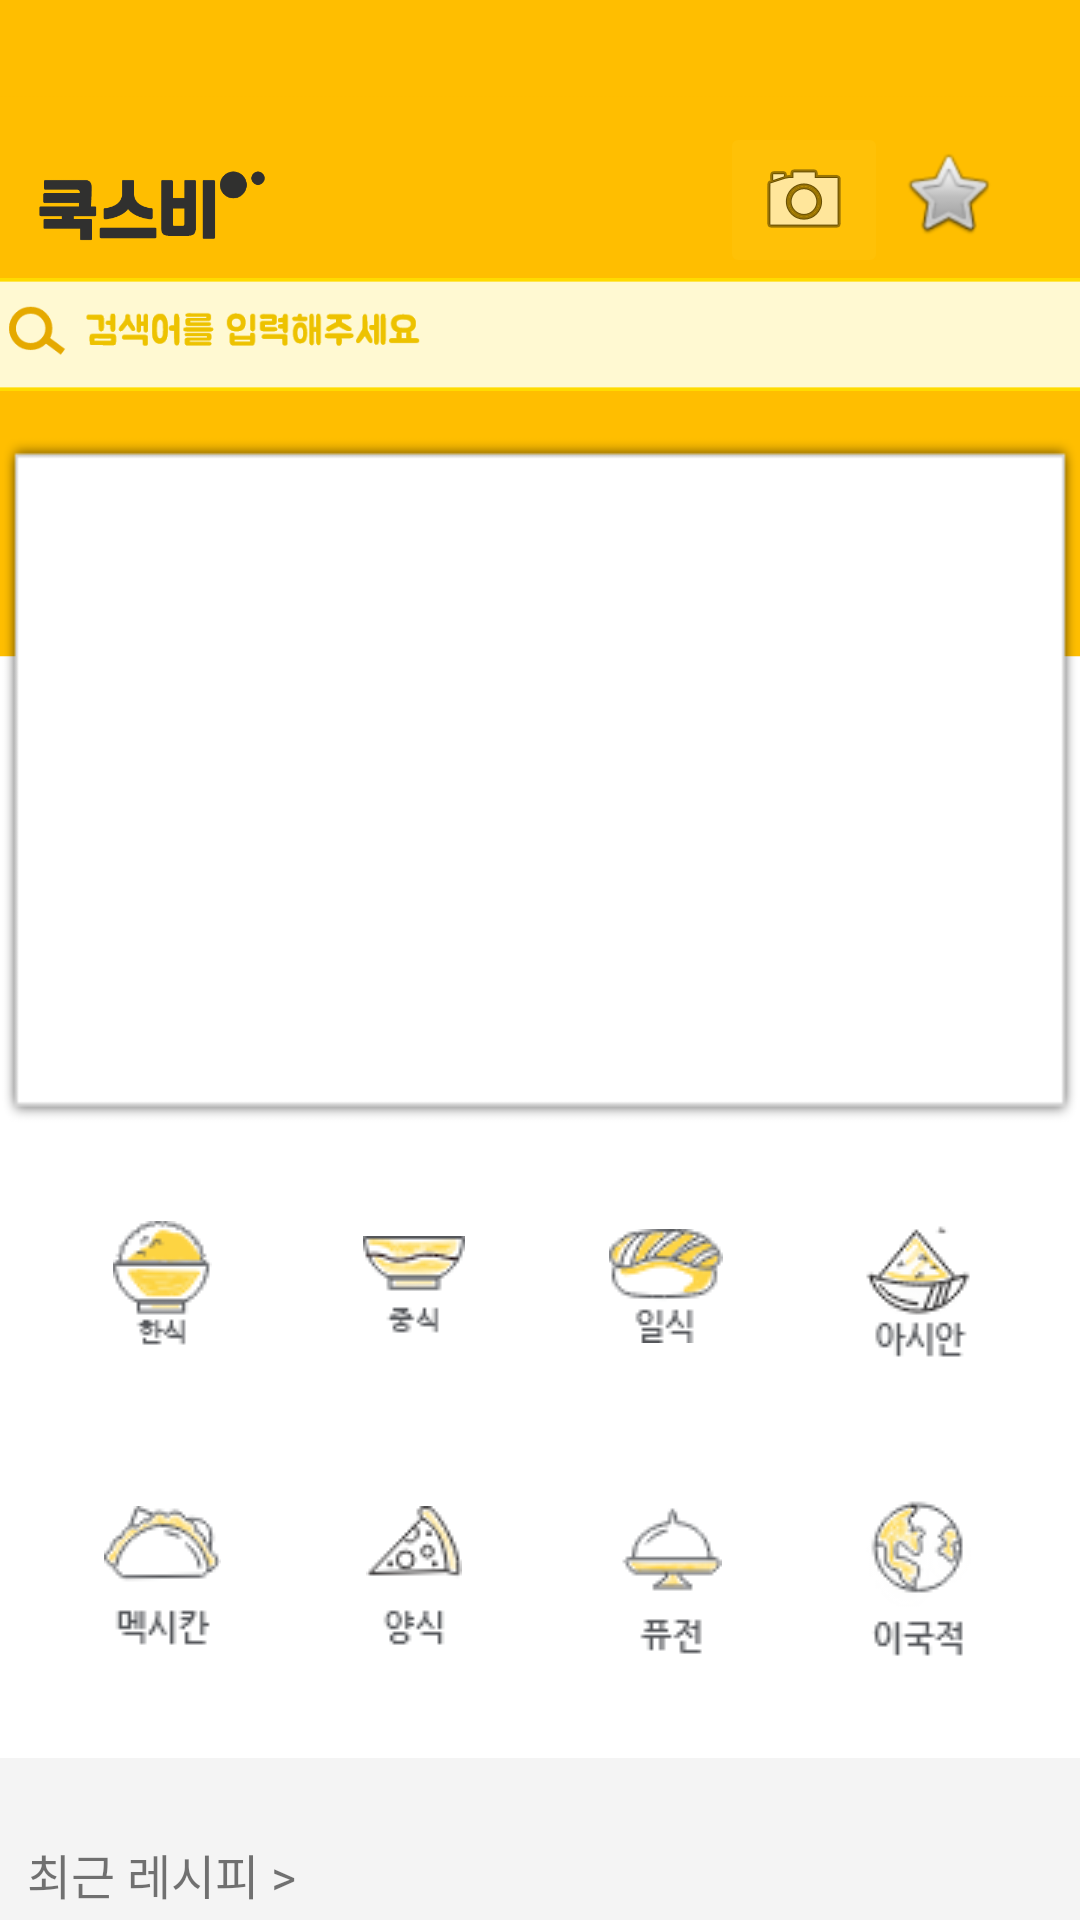

Icon click points for this 1080w x 1920h phone screenshot, format (x,y):
camera: (804,198)
star: (949,194)
